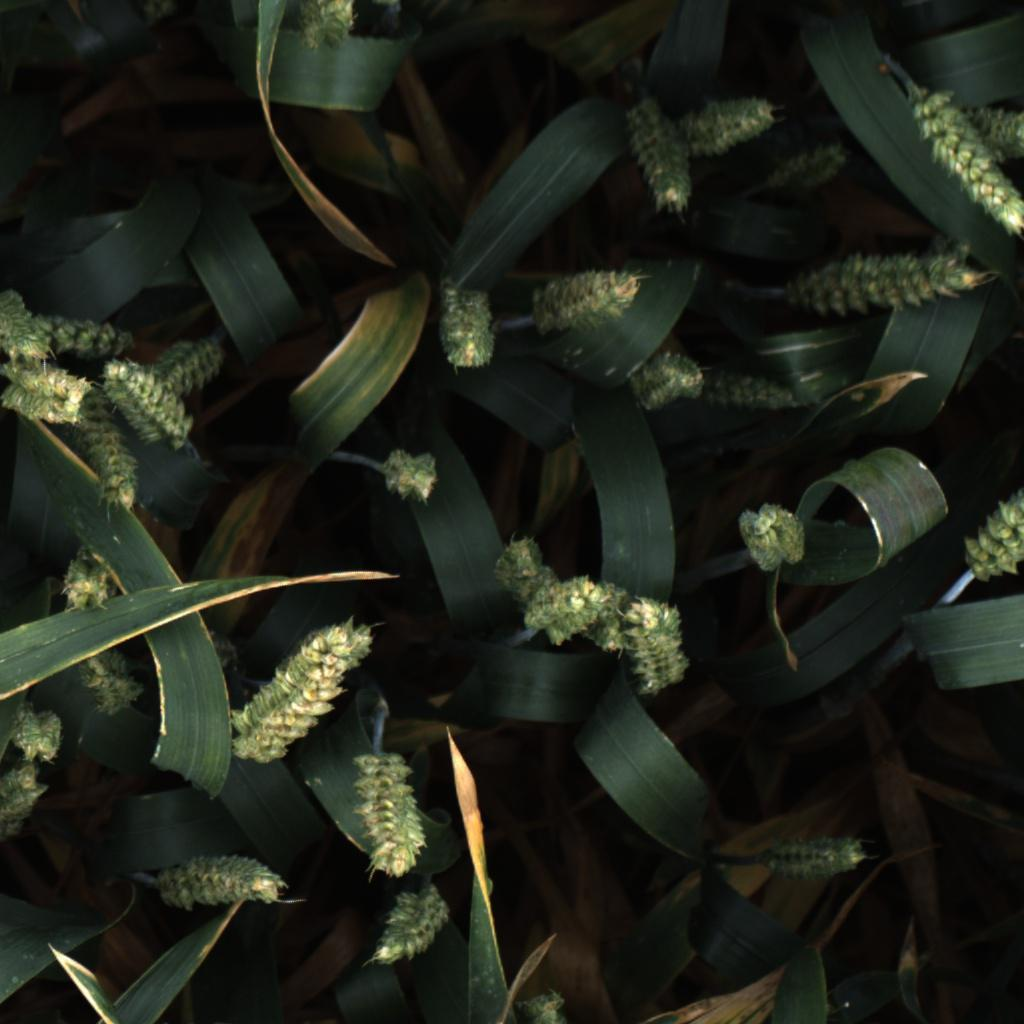0-0: (229, 617, 357, 765), (912, 85, 1024, 252), (787, 240, 983, 322), (954, 409, 1024, 594), (611, 95, 703, 217), (348, 749, 433, 879), (95, 349, 200, 452), (363, 881, 458, 972), (156, 849, 289, 913), (526, 263, 641, 335), (71, 402, 142, 516), (621, 595, 697, 701), (0, 305, 142, 358), (729, 494, 819, 573), (0, 357, 93, 433), (756, 827, 876, 885), (431, 278, 501, 374), (763, 129, 863, 196), (541, 575, 631, 648), (685, 92, 786, 154), (626, 344, 709, 417), (488, 528, 561, 605), (69, 643, 144, 717), (521, 569, 599, 636), (57, 550, 123, 623), (378, 440, 444, 511), (3, 697, 67, 767), (695, 374, 807, 414), (0, 763, 52, 848), (0, 289, 55, 368), (157, 329, 230, 384), (291, 0, 361, 56), (574, 603, 632, 658), (508, 984, 575, 1024), (975, 101, 1024, 150), (334, 614, 376, 671), (123, 0, 190, 23)
